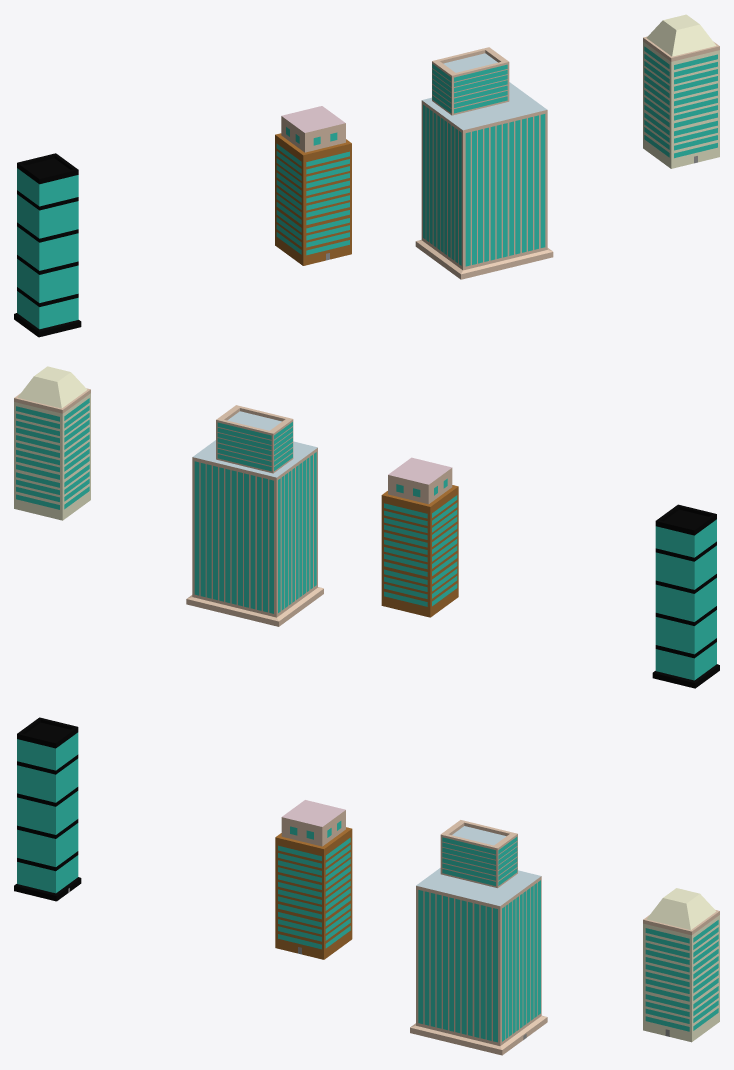
The model's file is rest_buildings.fbx.
3 renders of one model, top to bottom at view 1: azimuth 30°, elevation 25°; view 2: azimuth 150°, elevation 25°; view 3: azimuth 330°, elevation 25°, orthographic.
Visible parts, largest first — view 1: Skyscraper4, Skyscraper3, Skyscraper1, Skyscraper5; view 2: Skyscraper4, Skyscraper3, Skyscraper1, Skyscraper5; view 3: Skyscraper4, Skyscraper3, Skyscraper1, Skyscraper5.
Part boxes in pixels (left/top/right/bottom): Skyscraper4: left=415, top=47, right=553, bottom=279; Skyscraper3: left=275, top=106, right=351, bottom=265; Skyscraper1: left=14, top=153, right=81, bottom=337; Skyscraper5: left=643, top=14, right=719, bottom=168; Skyscraper4: left=186, top=405, right=323, bottom=626; Skyscraper3: left=381, top=457, right=458, bottom=617; Skyscraper1: left=652, top=504, right=719, bottom=688; Skyscraper5: left=14, top=366, right=90, bottom=520; Skyscraper4: left=410, top=820, right=547, bottom=1055; Skyscraper3: left=275, top=800, right=352, bottom=959; Skyscraper1: left=14, top=717, right=81, bottom=901; Skyscraper5: left=643, top=888, right=719, bottom=1042.
Size of the model in its own units: 3481 by 928 by 402.
